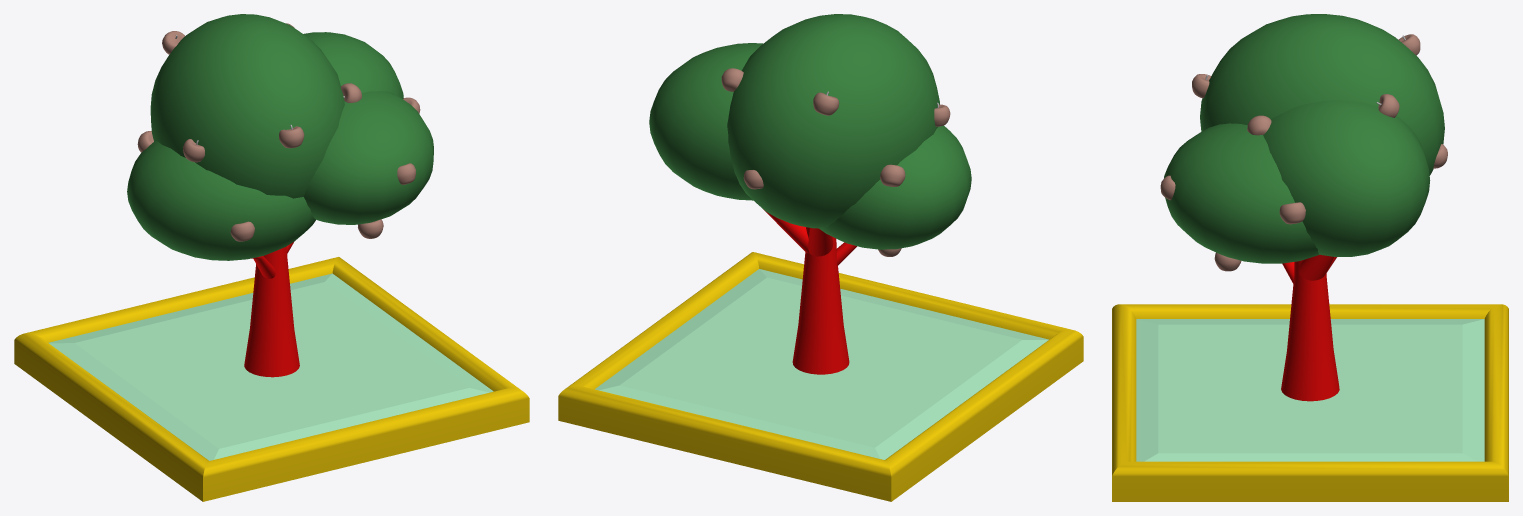
The model's file is Stage_3.fbx.
3 views of the same model, side by side, from view 1: azimuth 30°, elevation 25°; view 2: azimuth 150°, elevation 25°; view 3: azimuth 270°, elevation 25° (orthographic). The views are drawn at different scales.
Visible parts, largest first — view 1: Dirt, Bed, pSphere3, pSphere5, pSphere4, Apple_Tree, pSphere2; view 2: Dirt, pSphere3, Bed, pSphere2, pSphere5, Apple_Tree, Branch5; view 3: Dirt, Bed, pSphere3, pSphere2, pSphere4, Apple_Tree, Branch4, Base.
Boxes of the visible parts, bbox=[...] form: Dirt: bbox=[48, 273, 493, 460]; Bed: bbox=[14, 257, 529, 501]; pSphere3: bbox=[150, 14, 344, 198]; pSphere5: bbox=[127, 141, 315, 260]; pSphere4: bbox=[304, 91, 433, 224]; Apple_Tree: bbox=[244, 246, 299, 377]; pSphere2: bbox=[303, 32, 403, 98]; Dirt: bbox=[595, 269, 1048, 459]; pSphere3: bbox=[727, 14, 939, 228]; Bed: bbox=[558, 252, 1083, 501]; pSphere2: bbox=[649, 43, 762, 200]; pSphere5: bbox=[819, 125, 971, 249]; Apple_Tree: bbox=[792, 227, 849, 374]; Branch5: bbox=[808, 228, 833, 256]; Dirt: bbox=[1136, 319, 1484, 461]; Bed: bbox=[1112, 304, 1508, 501]; pSphere3: bbox=[1200, 14, 1444, 175]; pSphere2: bbox=[1263, 100, 1430, 256]; pSphere4: bbox=[1164, 123, 1319, 263]; Apple_Tree: bbox=[1281, 260, 1339, 401]; Branch4: bbox=[1298, 254, 1333, 280]; Base: bbox=[1279, 202, 1305, 224].
Size of the model in its own units: 4.24 by 4.55 by 4.24.
